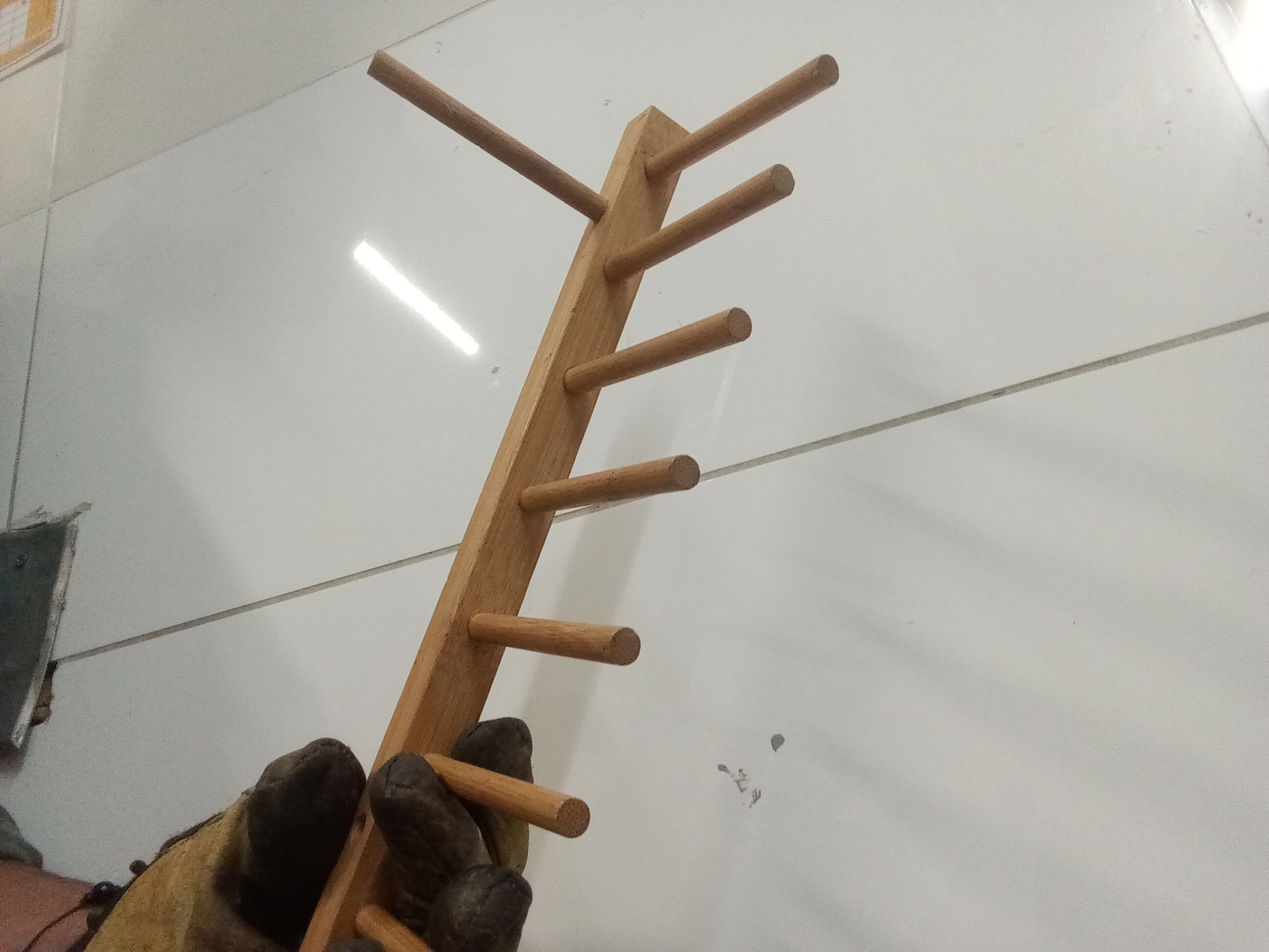Ordinario: (301, 49, 839, 951)
